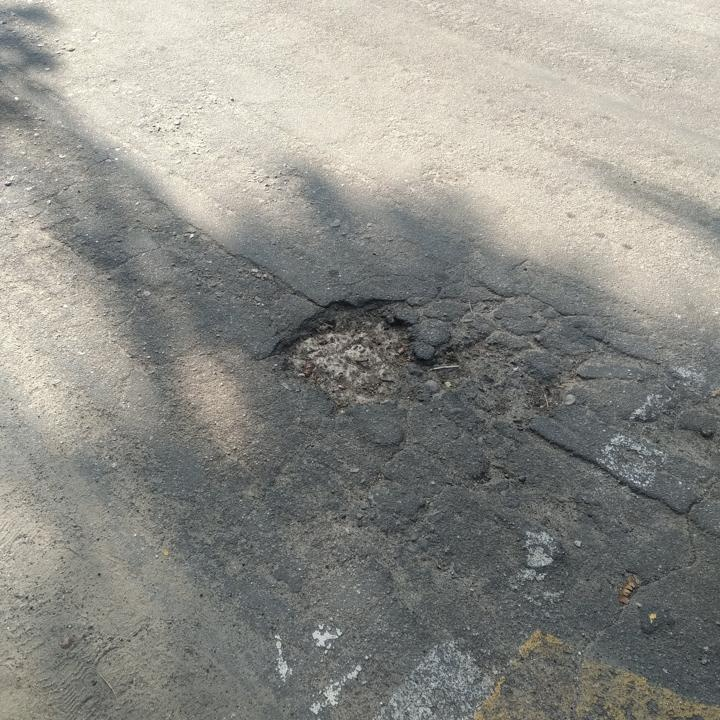pothole: (258, 291, 424, 409), (427, 336, 563, 422)
